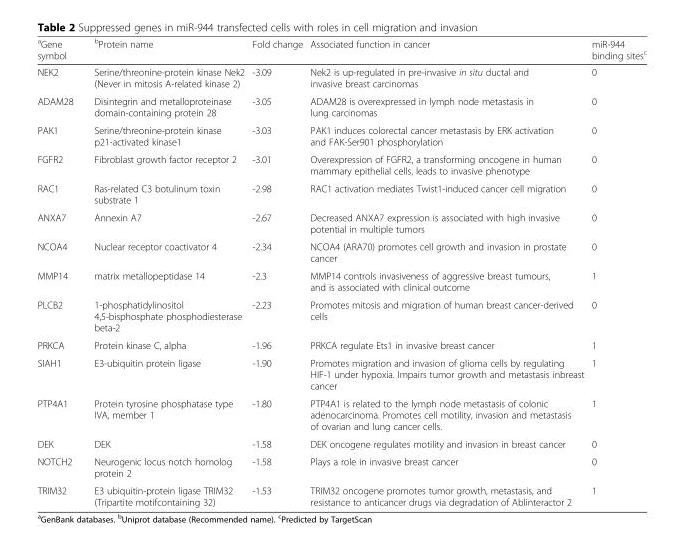table: (36, 36, 646, 507)
table column: (305, 36, 587, 507), (83, 36, 247, 507), (587, 36, 646, 507), (247, 36, 305, 507), (36, 36, 83, 507)
table column header: (36, 36, 646, 63)
table row: (36, 295, 646, 336), (36, 353, 646, 394), (36, 394, 646, 434), (36, 63, 646, 92), (36, 92, 646, 121), (36, 121, 646, 150), (36, 150, 646, 179), (36, 179, 646, 208), (36, 208, 646, 237), (36, 237, 646, 266), (36, 266, 646, 295), (36, 452, 646, 481), (36, 36, 646, 63), (36, 481, 646, 507), (36, 434, 646, 452), (36, 336, 646, 353)
